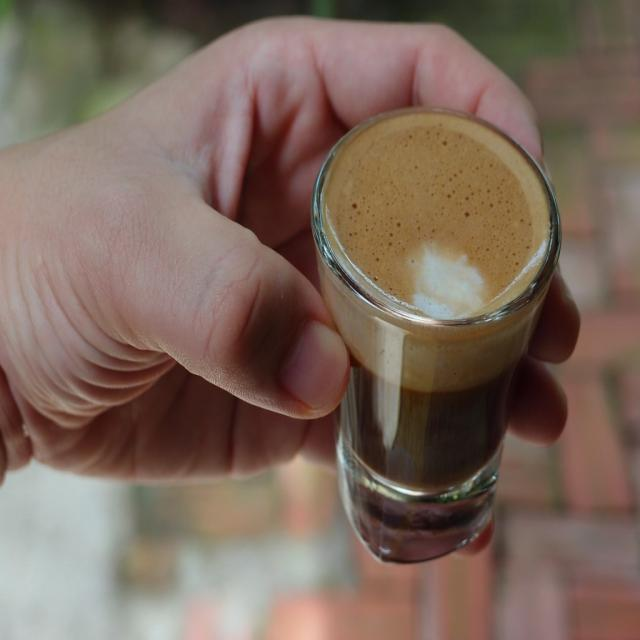Coffee: (316, 108, 554, 567)
